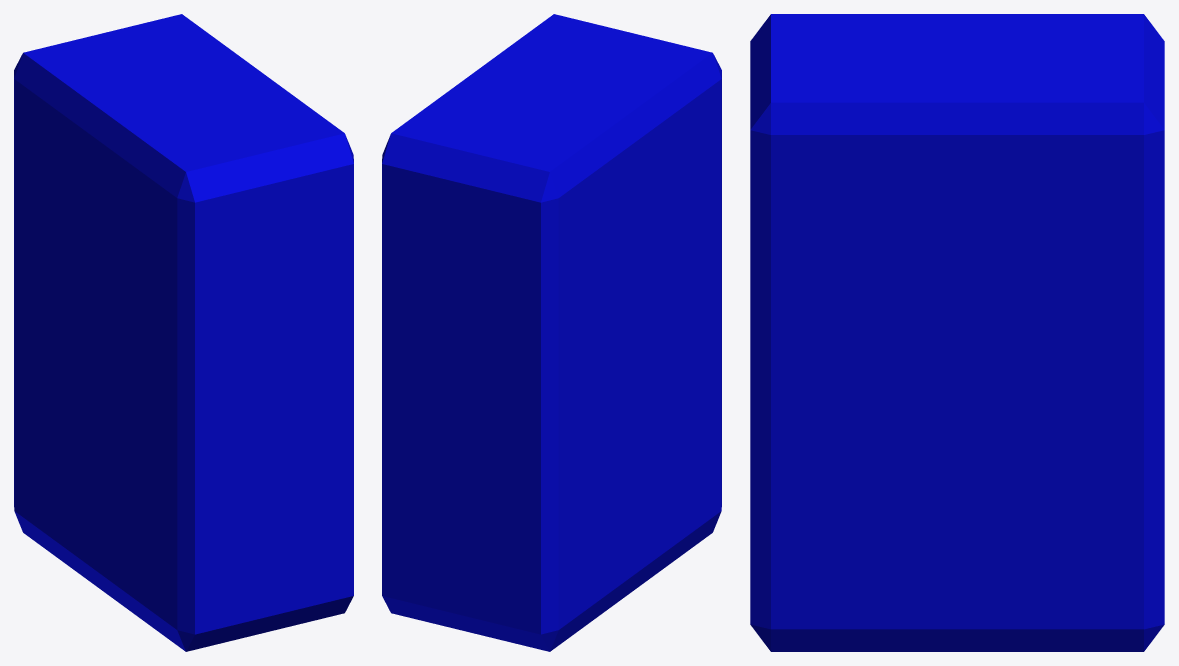
Rendered from battery.fbx.
The picture shows the model from 3 angles, left to right: view 1: azimuth 30°, elevation 25°; view 2: azimuth 150°, elevation 25°; view 3: azimuth 270°, elevation 25°; orthographic projection. The views are drawn at different scales.
Visible parts, largest first — view 1: Cube; view 2: Cube; view 3: Cube.
Part boxes in pixels (x1,y1,x2,y2): Cube: [14, 14, 353, 651]; Cube: [382, 14, 721, 651]; Cube: [750, 14, 1164, 651].
Bounding box in the file's own units: 87.51 × 227 × 155.
